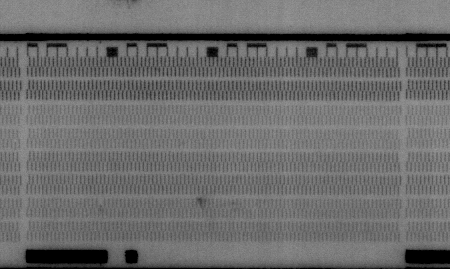Oblique printing: (95, 198, 107, 213), (10, 139, 21, 152)
